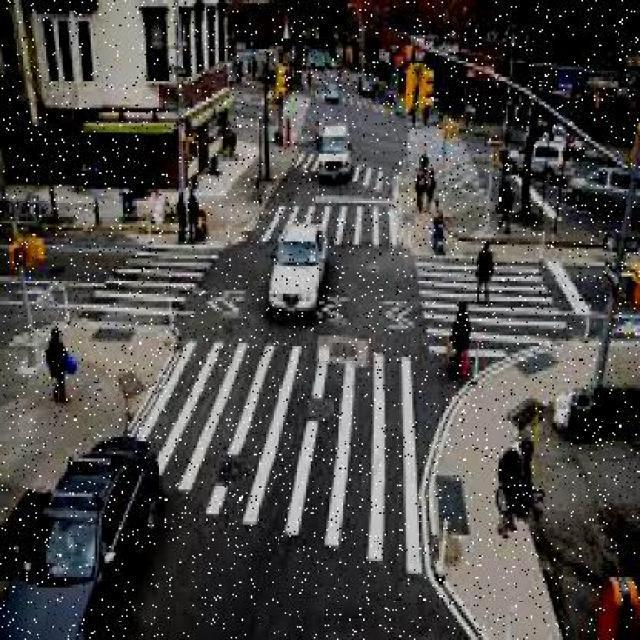Pedestrian crosswalk: (113, 351, 421, 568), (406, 253, 563, 382), (84, 245, 218, 327), (247, 200, 401, 256), (288, 147, 392, 200)
